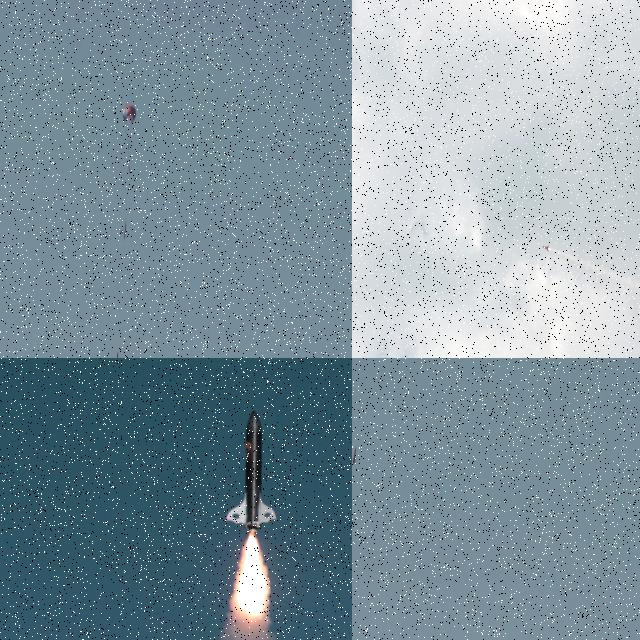Rocket: (224, 409, 278, 534), (352, 448, 357, 464), (541, 244, 550, 252), (115, 351, 119, 358)
